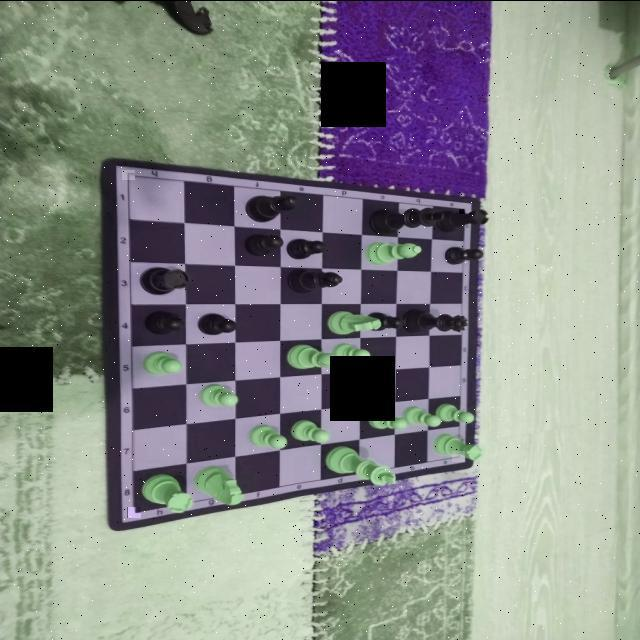chess-table-corners: (126, 506, 140, 517), (452, 450, 465, 461), (122, 170, 135, 180), (459, 203, 471, 213)
